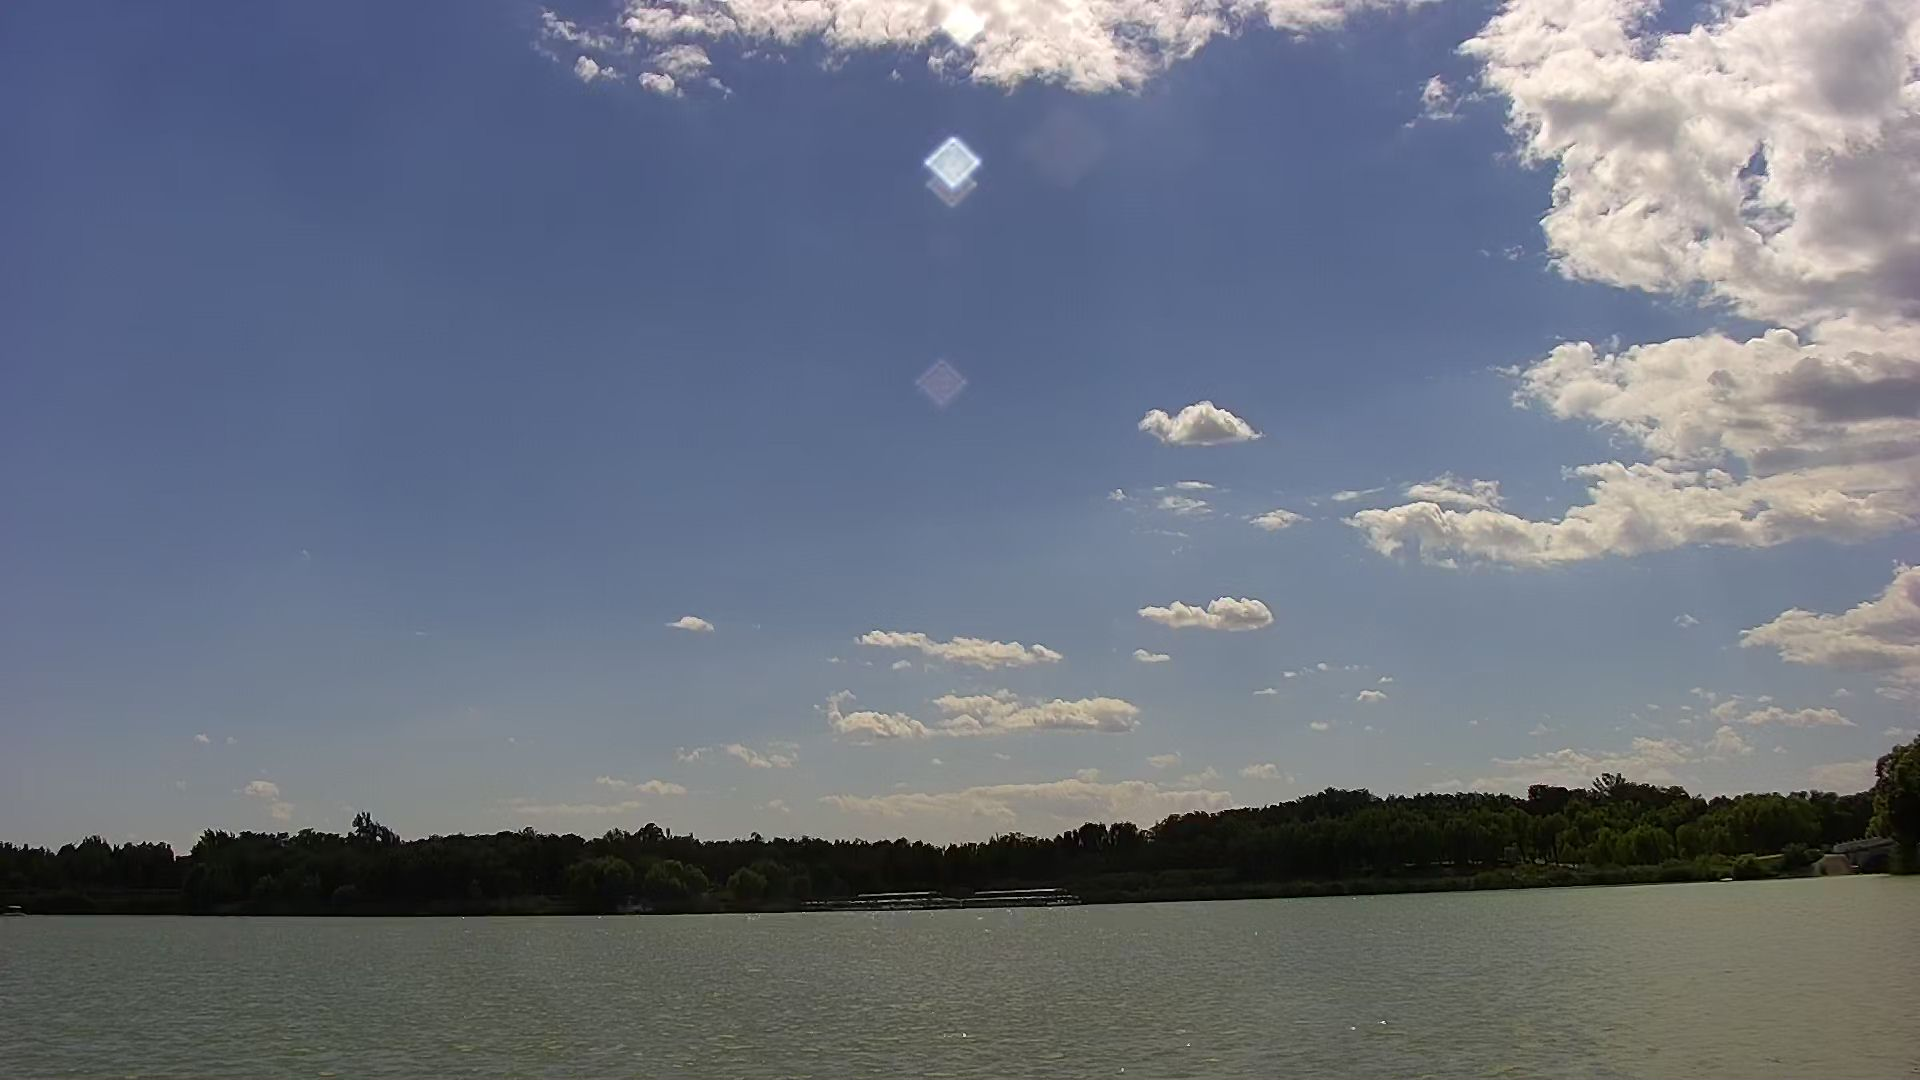harbor: (847, 889, 1055, 905)
